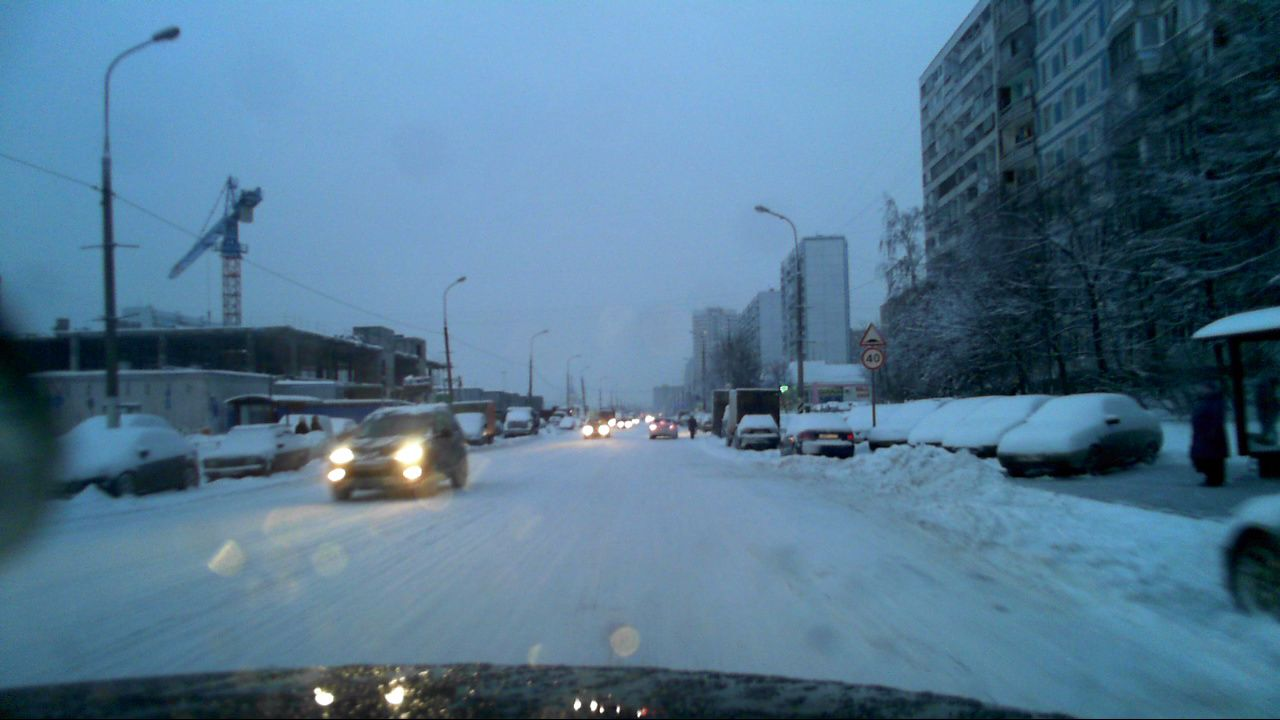speed_warning_40: (860, 347, 885, 367)
